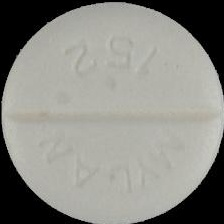49999-127: (0, 0, 224, 224)
